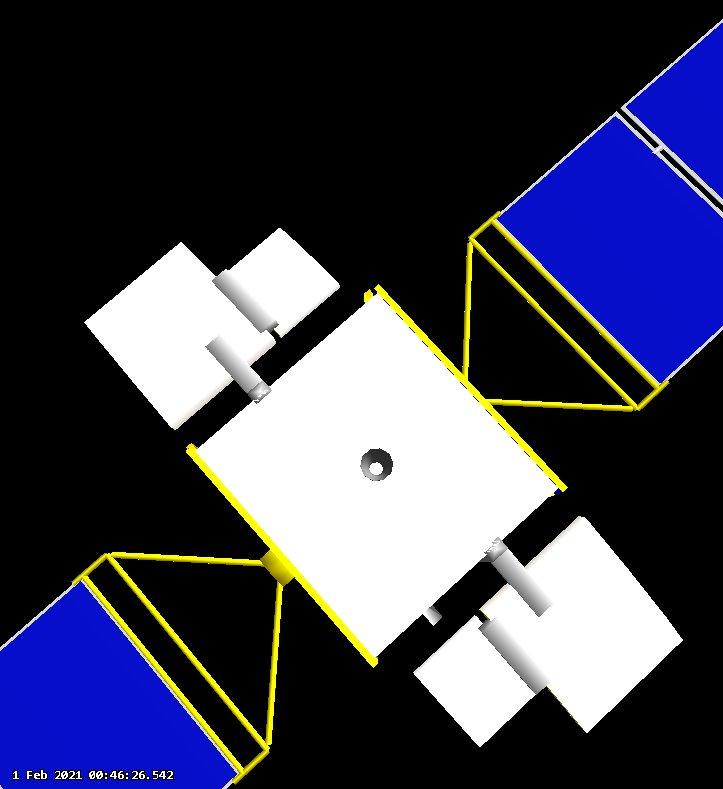antenna: (479, 511, 686, 739), (85, 239, 280, 434), (410, 611, 544, 749), (219, 225, 344, 340)
body: (188, 284, 566, 671)
solar: (495, 0, 723, 388), (0, 577, 242, 789)
thruster: (356, 444, 396, 485)
